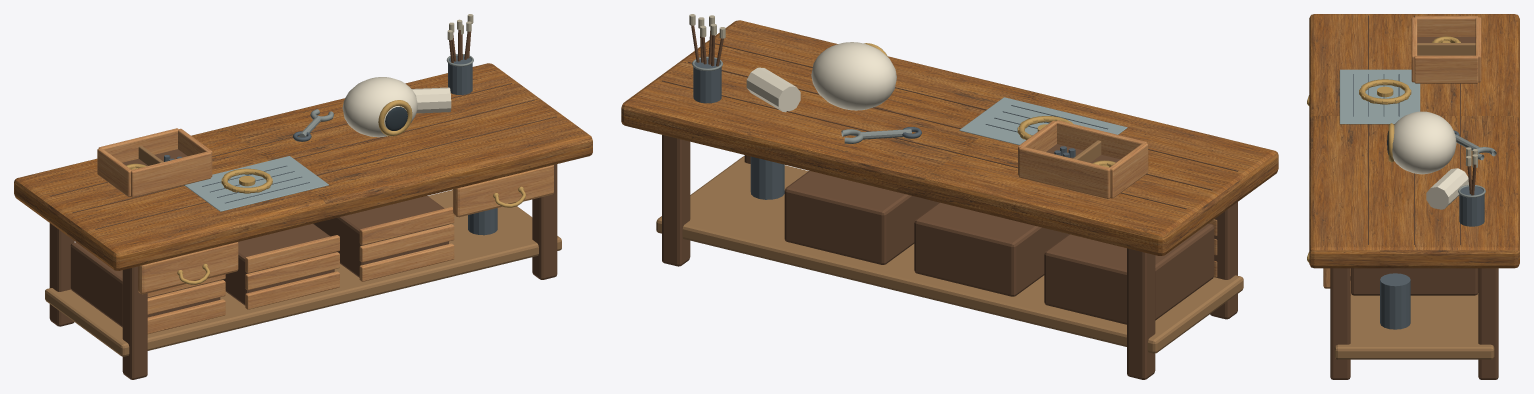
The picture shows the model from 3 angles, left to right: view 1: azimuth 30°, elevation 25°; view 2: azimuth 150°, elevation 25°; view 3: azimuth 270°, elevation 25°; orthographic projection. The views are drawn at different scales.
Parts seen in each view (by area): view 1: workshop_bench, workshop_oak, workshop_wood_dark, workshop_wood, workshop_cream, workshop_blue_light, workshop_steel, workshop_brass; view 2: workshop_bench, workshop_wood_dark, workshop_wood, workshop_oak, workshop_cream, workshop_steel, workshop_blue_light, workshop_steel_light, workshop_brass; view 3: workshop_bench, workshop_wood, workshop_wood_dark, workshop_cream, workshop_oak, workshop_blue_light, workshop_steel, workshop_brass, workshop_steel_light, workshop_linen_shade.
Boxes of the visible parts, bbox=[...] form: workshop_bench: bbox=[14, 63, 592, 270]; workshop_oak: bbox=[97, 128, 553, 333]; workshop_wood_dark: bbox=[49, 30, 557, 379]; workshop_wood: bbox=[45, 146, 561, 356]; workshop_cream: bbox=[342, 77, 451, 137]; workshop_blue_light: bbox=[184, 156, 328, 211]; workshop_steel: bbox=[164, 55, 497, 235]; workshop_brass: bbox=[126, 100, 525, 284]; workshop_bench: bbox=[621, 20, 1278, 255]; workshop_wood_dark: bbox=[662, 25, 1237, 379]; workshop_wood: bbox=[656, 140, 1243, 353]; workshop_oak: bbox=[1018, 120, 1217, 277]; workshop_cream: bbox=[746, 42, 896, 112]; workshop_steel: bbox=[693, 58, 1107, 199]; workshop_blue_light: bbox=[959, 97, 1127, 145]; workshop_steel_light: bbox=[692, 56, 911, 143]; workshop_brass: bbox=[864, 43, 1115, 167]; workshop_bench: bbox=[1309, 14, 1519, 268]; workshop_wood: bbox=[1334, 43, 1494, 359]; workshop_wood_dark: bbox=[1330, 15, 1498, 379]; workshop_cream: bbox=[1392, 111, 1468, 209]; workshop_oak: bbox=[1323, 16, 1481, 295]; workshop_blue_light: bbox=[1339, 69, 1420, 124]; workshop_steel: bbox=[1353, 74, 1484, 329]; workshop_brass: bbox=[1307, 36, 1460, 262]; workshop_steel_light: bbox=[1455, 134, 1496, 197]; workshop_linen_shade: bbox=[1466, 147, 1477, 167].
Size of the model in its own units: 4.4 by 1.88 by 1.67.
Materials: 11 (2 with a texture image).
